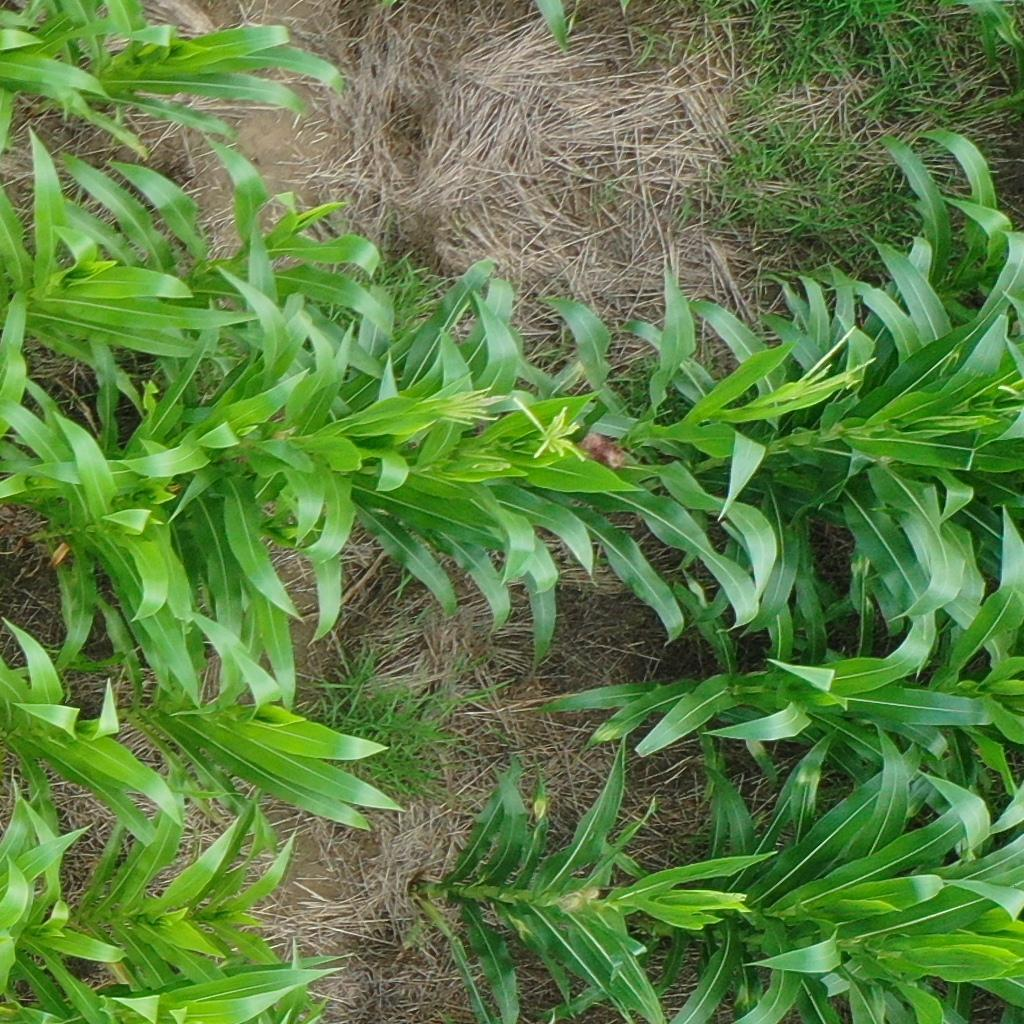Tassel: (770, 323, 880, 405), (511, 390, 588, 461), (409, 381, 508, 429), (712, 887, 752, 910), (996, 378, 1024, 401)
